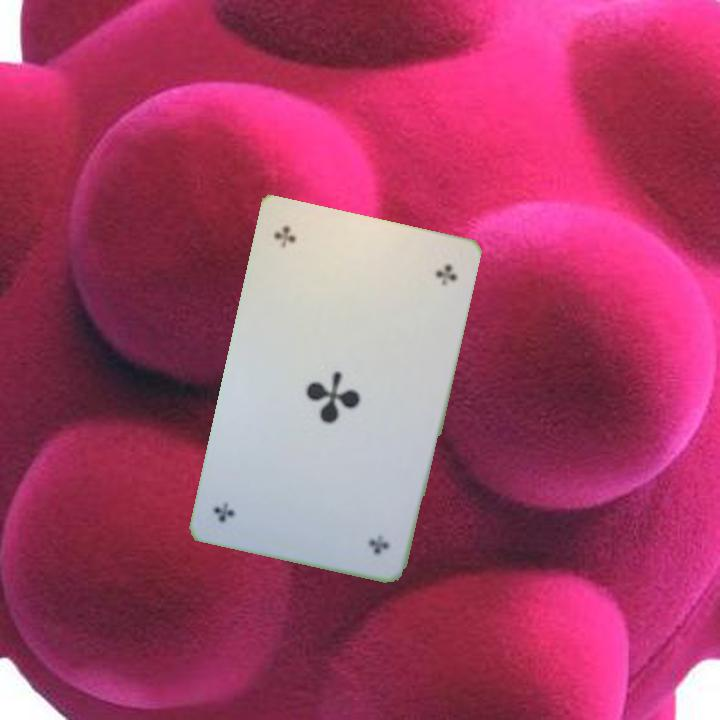c_a.png: (257, 212, 372, 317), (297, 463, 412, 567)
